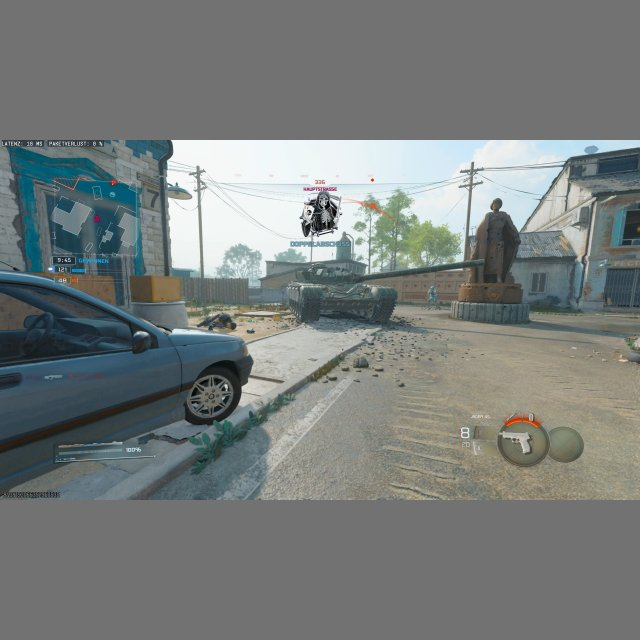player: (427, 285, 438, 308)
